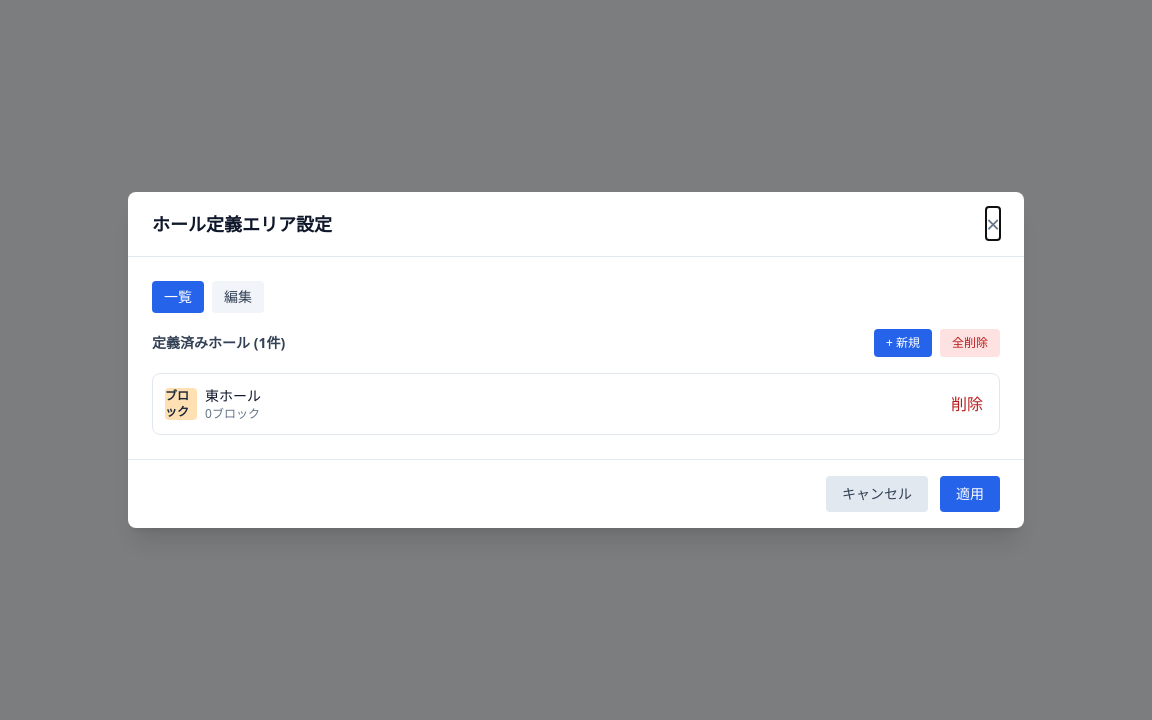
Test: HallDefinitionPanel accessibility › keeps new-hall color swatches inside their buttons
Click the button "+ 新規". click: {"x": 903, "y": 343}
box: [874, 329, 932, 357]
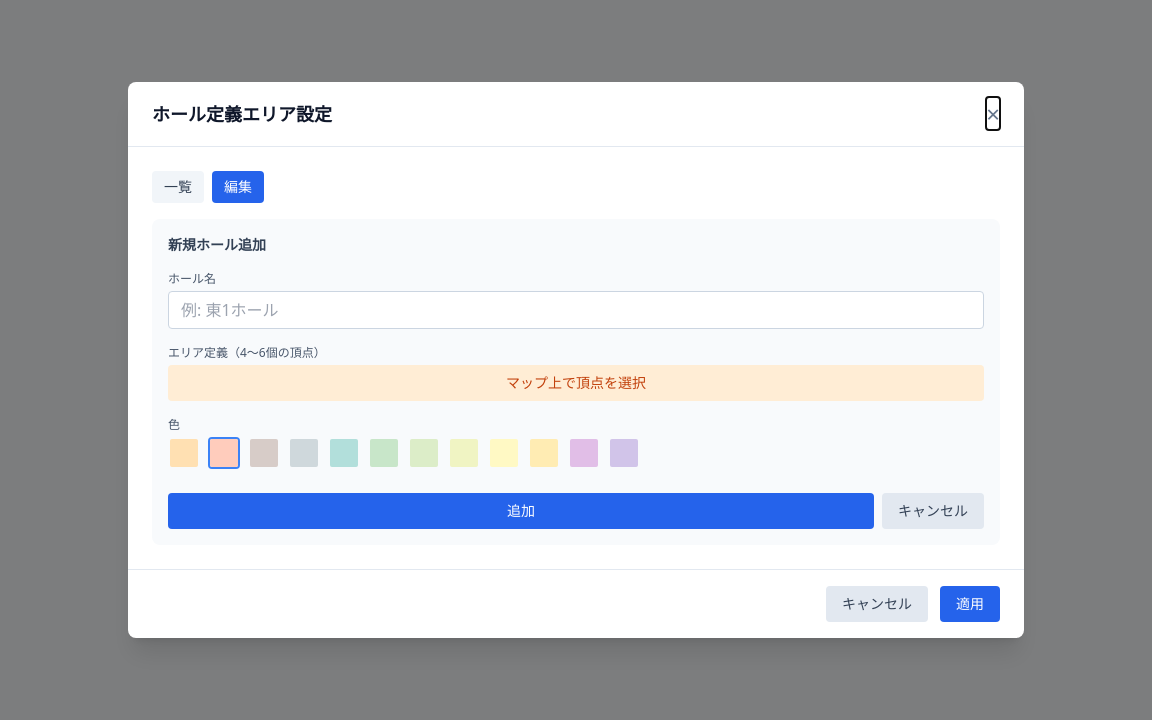
Check: the number of buttons named "色: #" is 12
